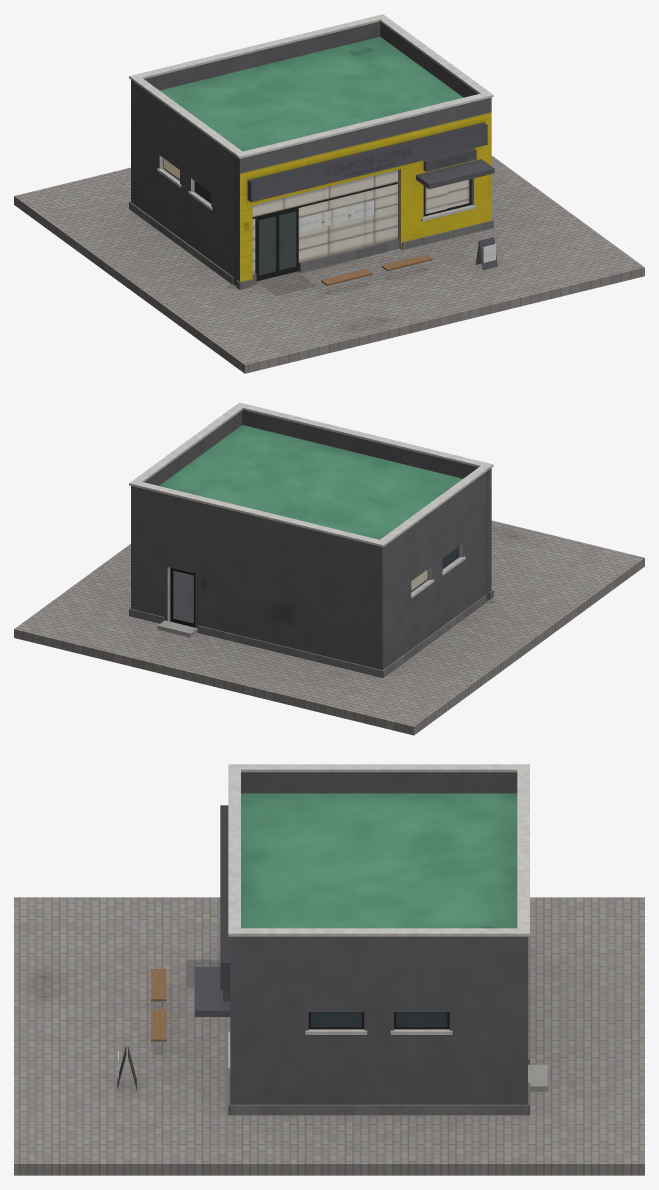
File: IlsanCompose_LOD2.fbx
3 views of the same model, one above another, from view 1: azimuth 30°, elevation 25°; view 2: azimuth 150°, elevation 25°; view 3: azimuth 270°, elevation 25° (orthographic). The views are drawn at different scales.
Visible parts, largest first — view 1: IlsanCompose_LOD2; view 2: IlsanCompose_LOD2; view 3: IlsanCompose_LOD2.
Boxes of the visible parts, bbox=[...] form: IlsanCompose_LOD2: bbox=[14, 14, 644, 373]; IlsanCompose_LOD2: bbox=[14, 402, 644, 735]; IlsanCompose_LOD2: bbox=[14, 764, 644, 1175].
Bounding box in the file's own units: 15.9 × 5.38 × 15.9.
1 material, 1 textured.
